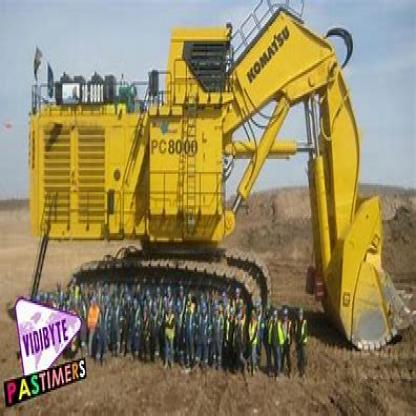excavator: (16, 22, 401, 400)
